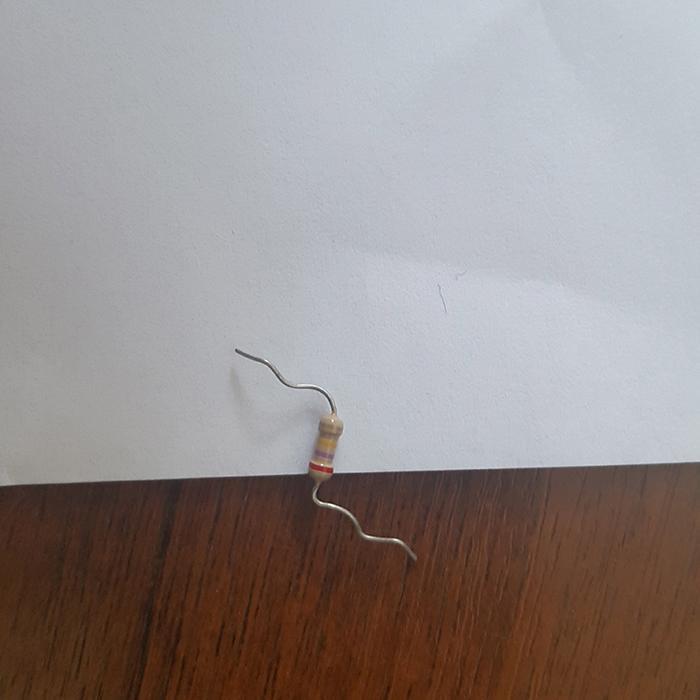resistor: (307, 412, 343, 482)
